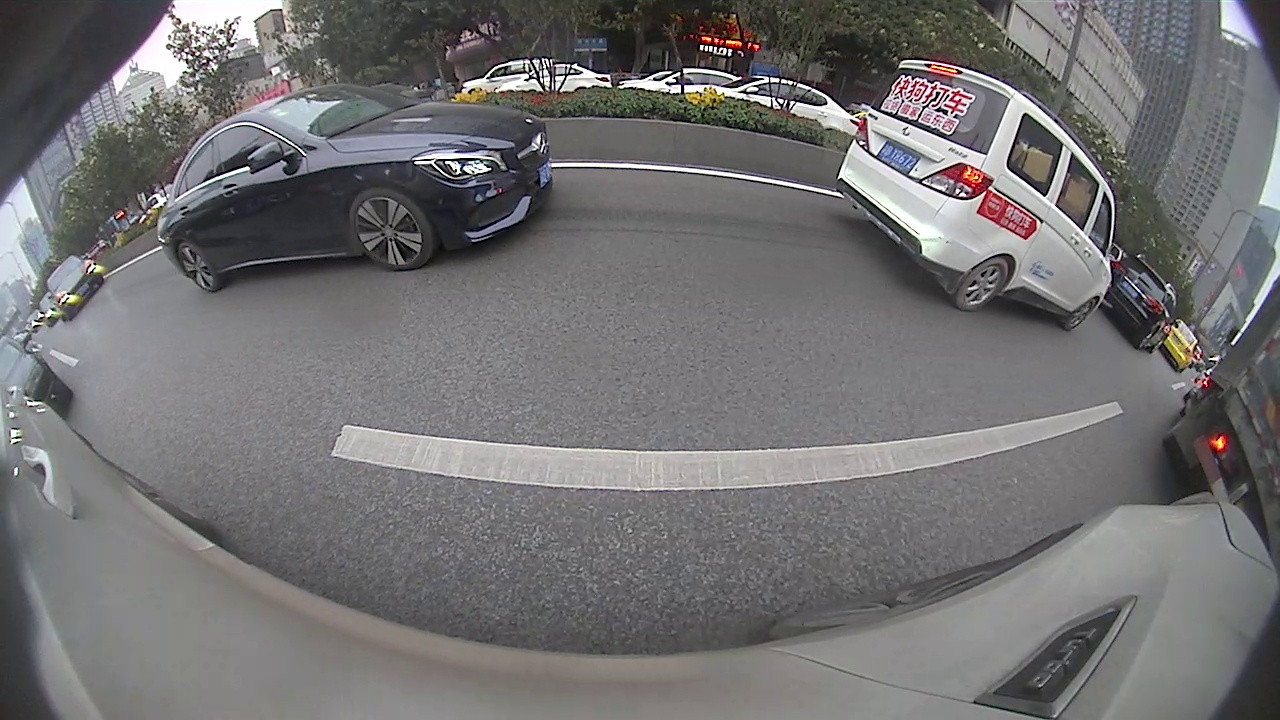car: (156, 86, 553, 294), (835, 54, 1113, 332), (1090, 250, 1172, 353), (47, 256, 111, 319), (1163, 317, 1199, 374)
front: (347, 190, 429, 270), (1064, 299, 1097, 332)
rear: (956, 260, 1009, 314), (178, 243, 219, 292)
